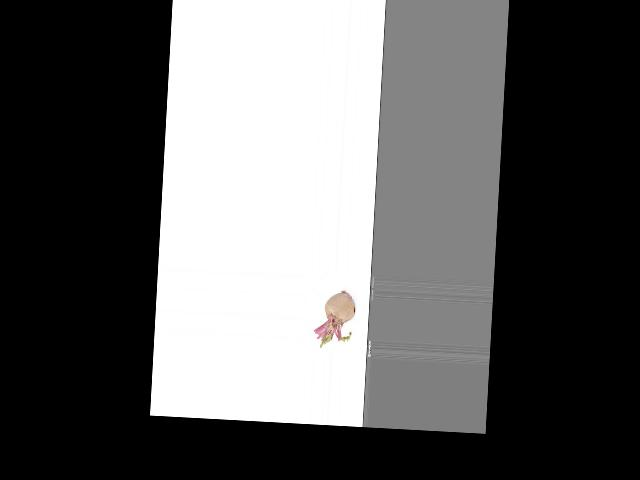beet: (313, 288, 356, 349)
